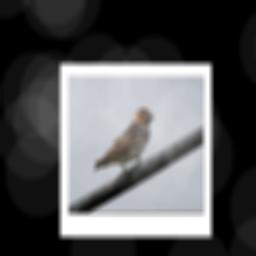Swallow: (91, 106, 156, 175)
